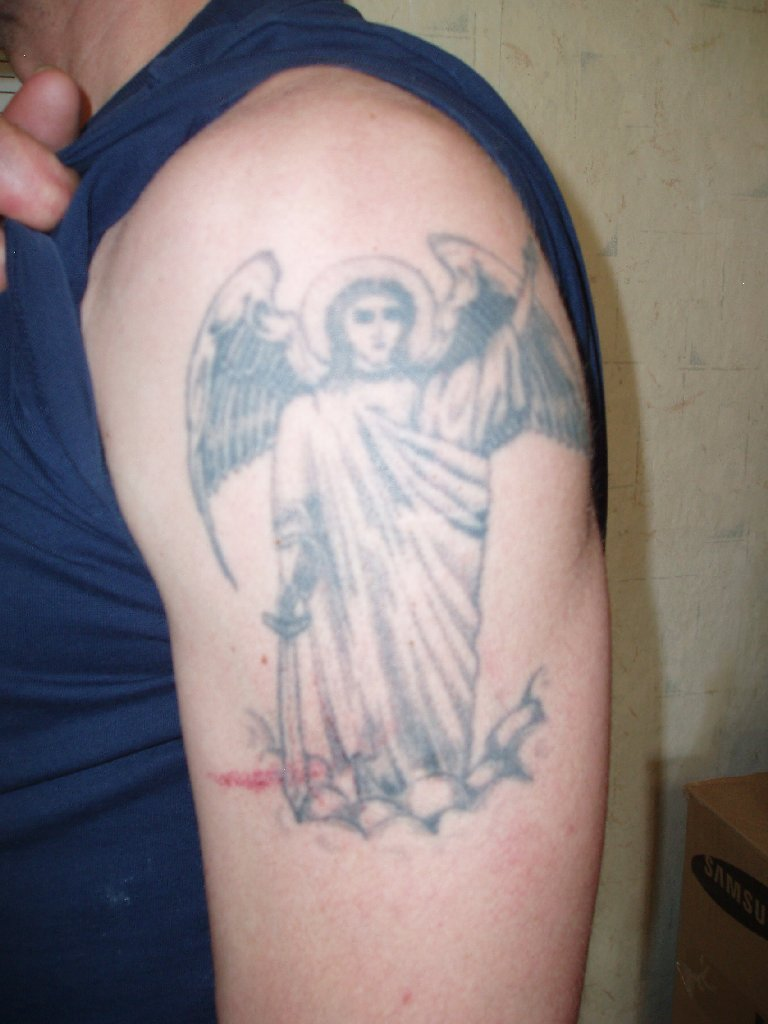tatu1_angel: (178, 236, 571, 824)
